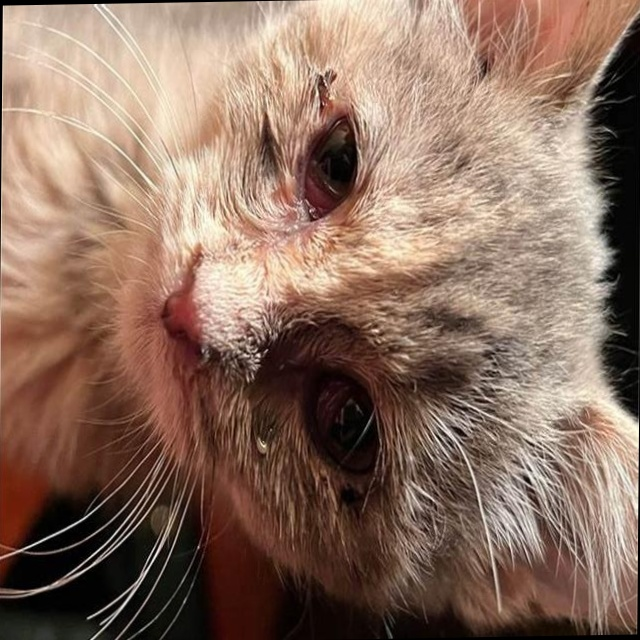eye_infection: (314, 381, 379, 469), (298, 124, 354, 222)
